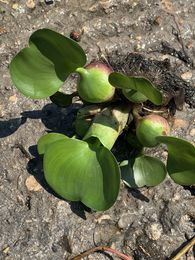water_hyacinth: (5, 17, 195, 222)
